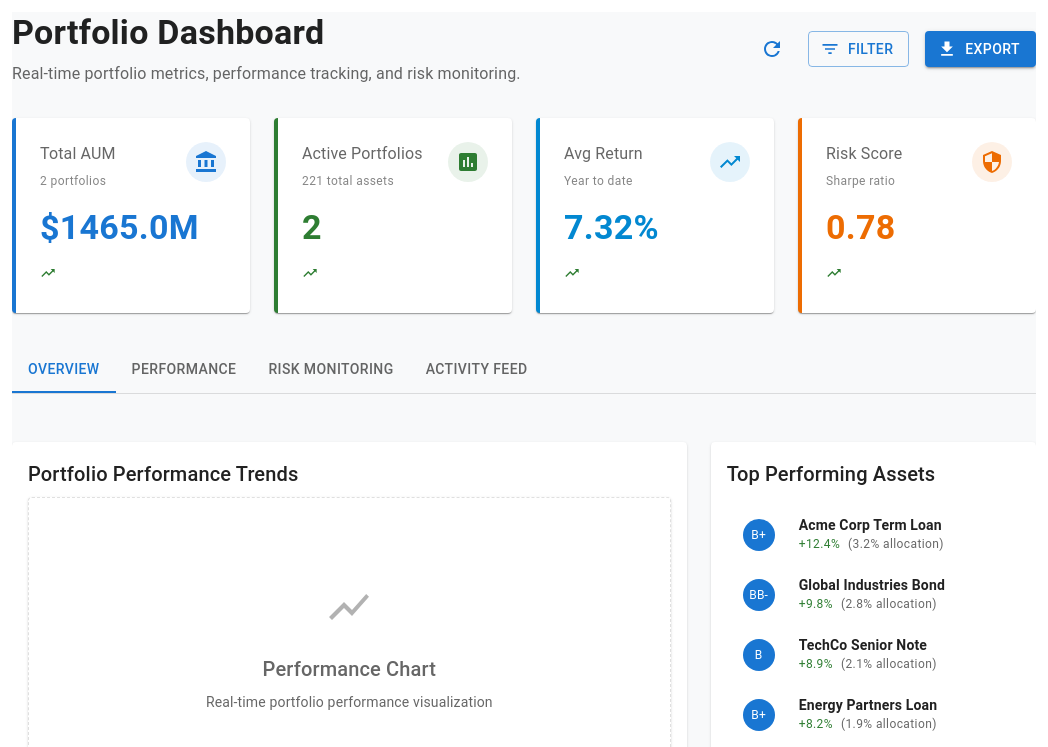
Test case: PortfolioDashboard › displays recent activity in Activity Feed tab
The width and height of the screenshot is (1048, 747).
Click the tab "Activity Feed" at (477, 370), box 410,346 -> 544,394
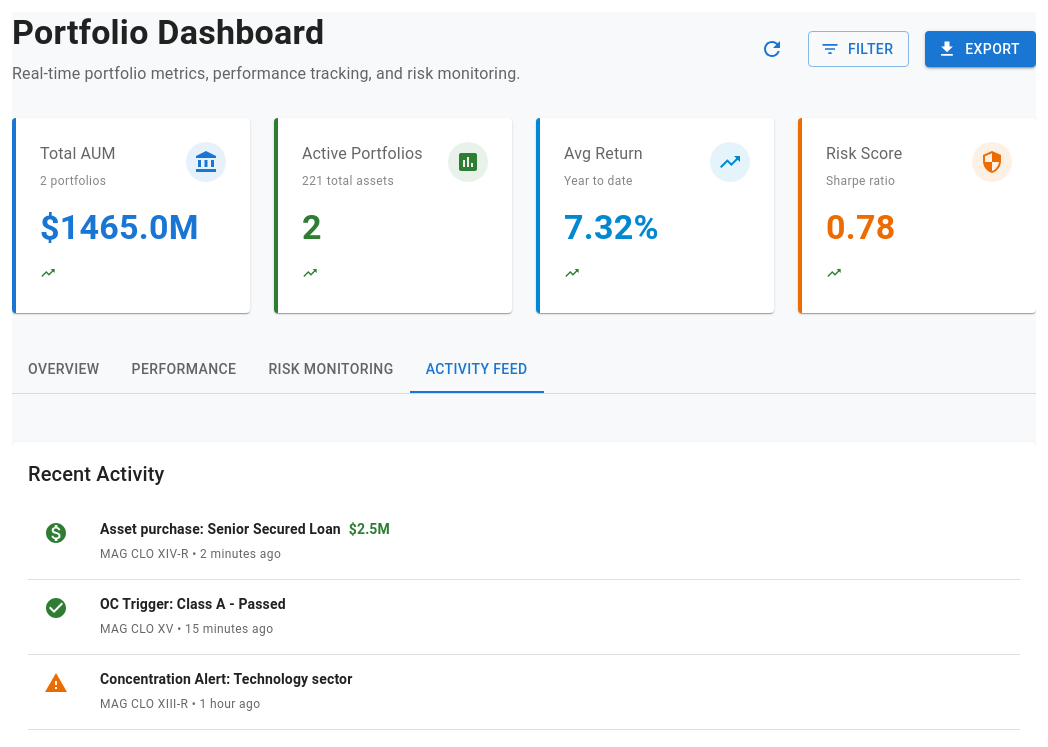
Expected: the heading "Recent Activity" is shown, 28,462 -> 164,486
Expected: the text "Asset purchase: Senior Secured Loan" is shown, 100,520 -> 341,540
Expected: the text "OC Trigger: Class A - Passed" is shown, 100,594 -> 286,614
